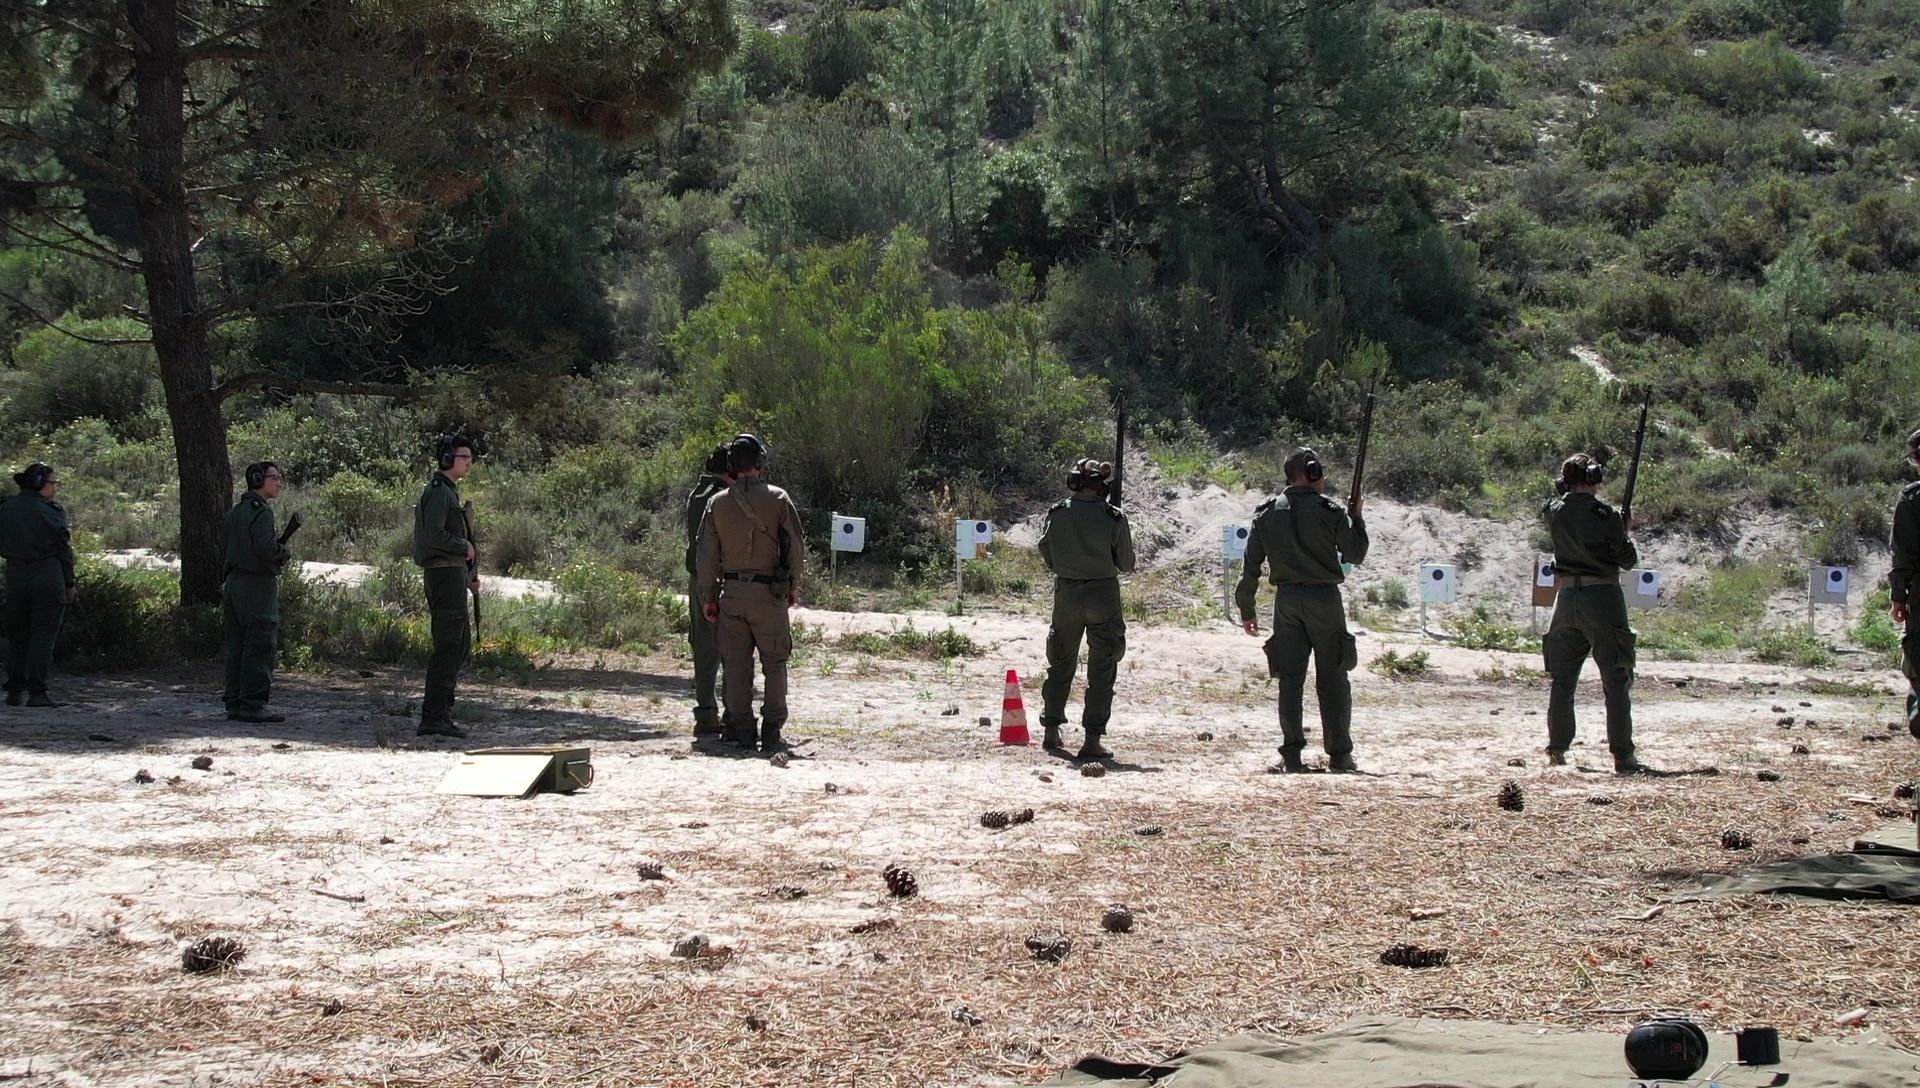Soldier: (1236, 342, 1393, 789), (1527, 419, 1667, 791), (694, 417, 814, 750), (175, 462, 295, 744), (398, 431, 496, 757), (1044, 433, 1131, 760), (0, 442, 92, 733)
